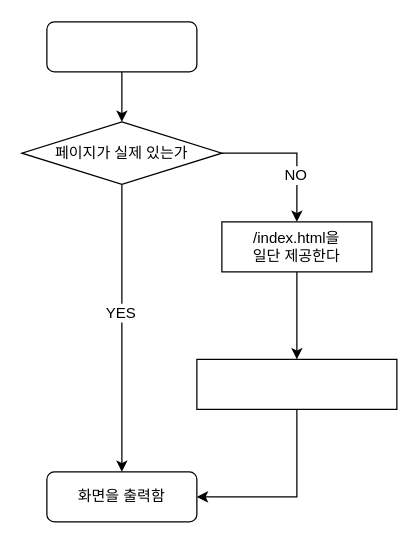
Some shapes in this 419 by 544 pixel diagram are drawn without their labels. Each missing label, with the centre of its shape:
"주소를 읽은뒤 가상라우터를 이용해 이동한다" goes at [296,383].
"페이지 주소 입력 로드" goes at [121,46].
